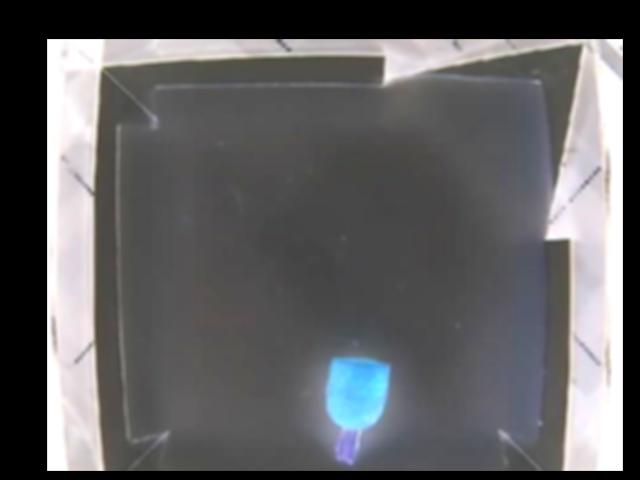Carrot: (325, 355, 388, 468)
